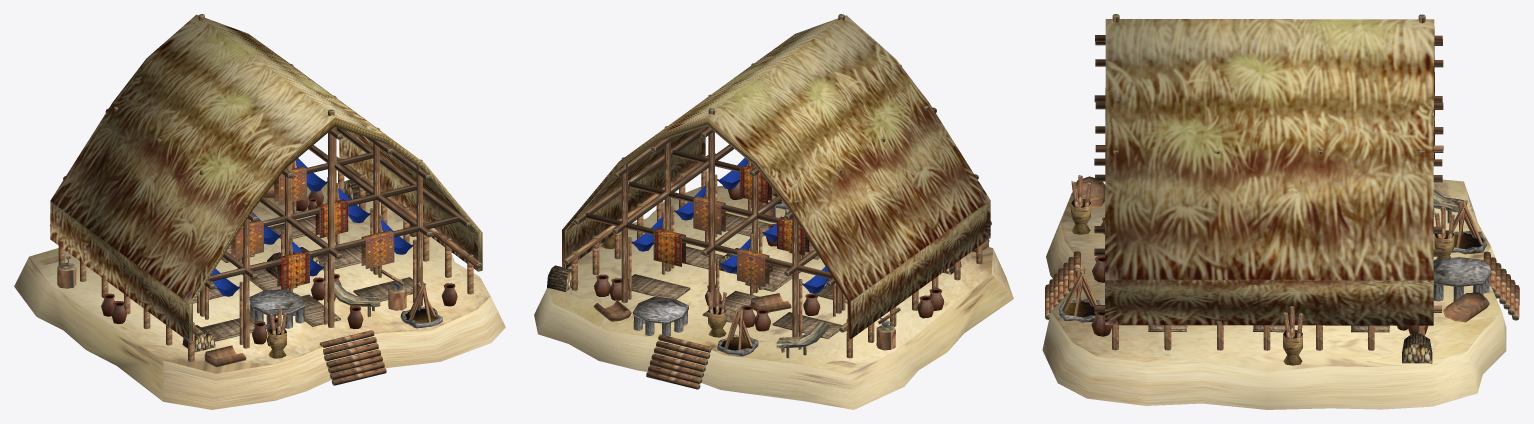
Rendered from palace.dae.
The picture shows the model from 3 angles, left to right: view 1: azimuth 30°, elevation 25°; view 2: azimuth 150°, elevation 25°; view 3: azimuth 270°, elevation 25°; orthographic projection. The views are drawn at different scales.
Parts seen in each view (by area): view 1: palace; view 2: palace; view 3: palace.
Boxes of the visible parts, x1,y1,x2,y2 form: palace: (14,14,505,409); palace: (534,14,1013,409); palace: (1042,14,1519,409).
Bounding box in the file's own units: 27.39 × 26.7 × 17.92.
